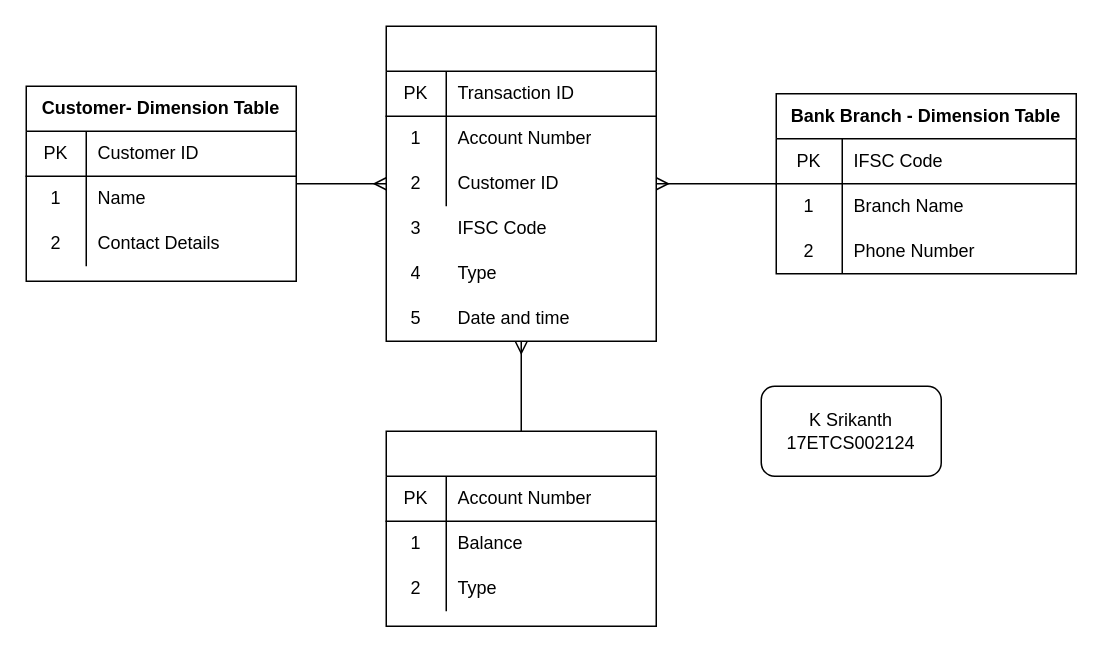
This 1103x653 diagram has some shape labels left out. Each missing label, with the box of its shape:
Account - Dimension Table: (385, 430, 656, 626)
Transaction - Fact Table: (385, 25, 656, 341)
